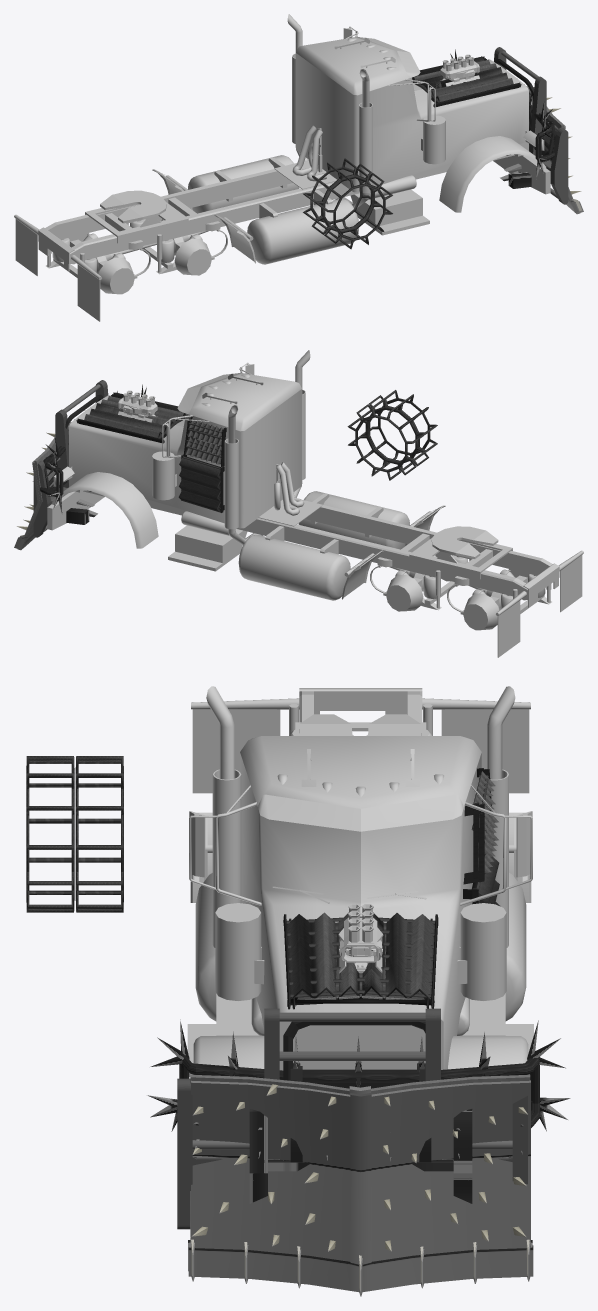
File: ATAPetyarbuiltArmor.fbx
The picture shows the model from 3 angles, top to bottom: view 1: azimuth 30°, elevation 25°; view 2: azimuth 150°, elevation 25°; view 3: azimuth 270°, elevation 25°; orthographic projection. The views are drawn at different scales.
Parts seen in each view (by area): view 1: body_short, chaintires, Bullbar_Truck, hoodreinforcedfront, hoodreinforcedfrontscoop, pushbar_large_spiked, plow_spiked, pushbar_medium, airscooppiped, hoodlightfront; view 2: body_short, chaintires, Bullbar_Truck, doorfrontreinforcedleft, hoodreinforcedfrontscoop, hoodreinforcedfront, windowfrontreinforcedleft, plow_spiked, pushbar_large_spiked, windowfrontlightleft, airscooppiped, pushbar_medium (+2 smaller); view 3: body_short, plow, Bullbar_Truck, hoodreinforcedfront, chaintires, plow_spiked, pushbar_small, hoodreinforcedfrontscoop, pushbar_large, pushbar_large_spiked, pushbar_medium, hoodlightfront (+7 smaller).
Boxes of the visible parts, x1=… form: body_short: x1=14, y1=14, x2=550, y2=321; chaintires: x1=303, y1=158, x2=392, y2=249; Bullbar_Truck: x1=494, y1=47, x2=568, y2=204; hoodreinforcedfront: x1=412, y1=56, x2=513, y2=105; hoodreinforcedfrontscoop: x1=412, y1=63, x2=512, y2=105; pushbar_large_spiked: x1=450, y1=49, x2=554, y2=179; plow_spiked: x1=500, y1=86, x2=582, y2=212; pushbar_medium: x1=495, y1=58, x2=555, y2=155; airscooppiped: x1=440, y1=54, x2=479, y2=86; hoodlightfront: x1=413, y1=56, x2=520, y2=107; body_short: x1=47, y1=350, x2=583, y2=657; chaintires: x1=347, y1=390, x2=437, y2=480; Bullbar_Truck: x1=33, y1=380, x2=108, y2=537; doorfrontreinforcedleft: x1=178, y1=456, x2=224, y2=512; hoodreinforcedfrontscoop: x1=84, y1=392, x2=185, y2=440; hoodreinforcedfront: x1=85, y1=392, x2=185, y2=441; windowfrontreinforcedleft: x1=185, y1=417, x2=226, y2=464; plow_spiked: x1=17, y1=410, x2=97, y2=548; pushbar_large_spiked: x1=32, y1=384, x2=146, y2=513; windowfrontlightleft: x1=183, y1=420, x2=226, y2=466; airscooppiped: x1=118, y1=390, x2=157, y2=422; pushbar_medium: x1=43, y1=394, x2=102, y2=491; body_short: x1=187, y1=686, x2=533, y2=1076; plow: x1=188, y1=1080, x2=533, y2=1296; Bullbar_Truck: x1=177, y1=1008, x2=527, y2=1229; hoodreinforcedfront: x1=286, y1=912, x2=434, y2=1005; chaintires: x1=26, y1=756, x2=123, y2=912; plow_spiked: x1=188, y1=1074, x2=532, y2=1290; pushbar_small: x1=249, y1=1109, x2=472, y2=1203; hoodreinforcedfrontscoop: x1=284, y1=912, x2=437, y2=1005; pushbar_large: x1=181, y1=1057, x2=539, y2=1162; pushbar_large_spiked: x1=147, y1=1019, x2=570, y2=1160; pushbar_medium: x1=280, y1=1021, x2=453, y2=1088; hoodlightfront: x1=283, y1=914, x2=438, y2=1006.
Bounding box in the file's own units: 110 × 86.01 × 236.
